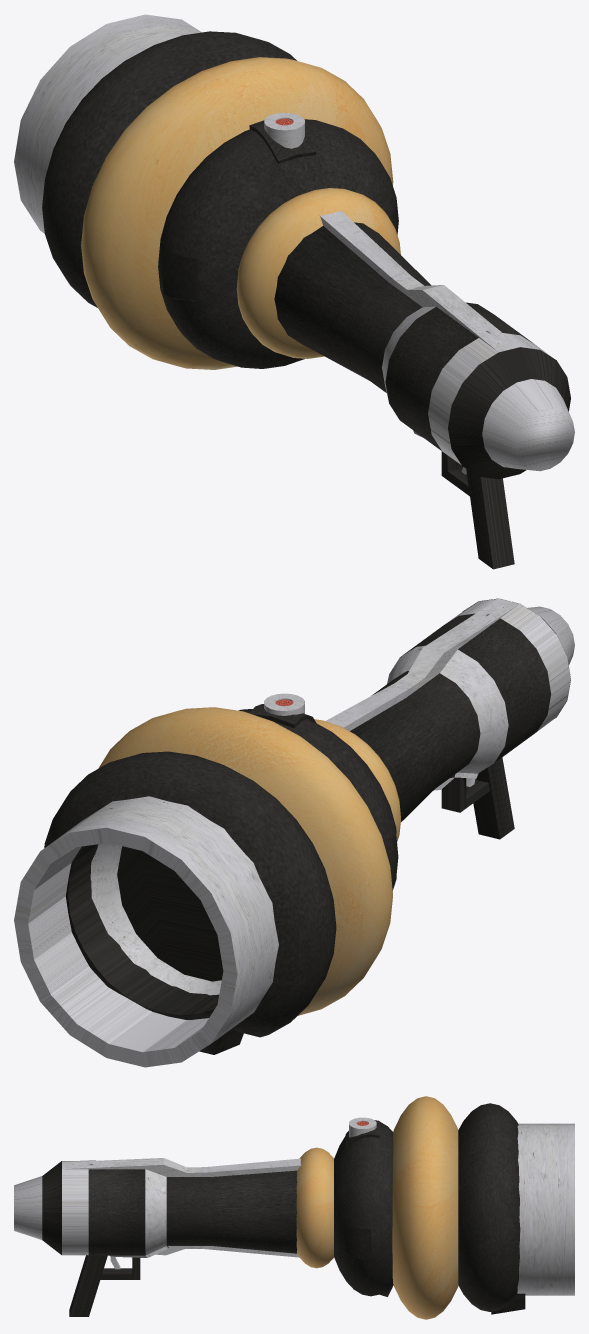
File: pollinator_f5000.fbx
3 views of the same model, one above another, from view 1: azimuth 30°, elevation 25°; view 2: azimuth 150°, elevation 25°; view 3: azimuth 270°, elevation 25° (orthographic). The views are drawn at different scales.
Visible parts, largest first — view 1: Pollinator_f5000; view 2: Pollinator_f5000; view 3: Pollinator_f5000.
Part boxes in pixels (x1=…): Pollinator_f5000: x1=14, y1=14, x2=574, y2=569; Pollinator_f5000: x1=14, y1=598, x2=574, y2=1067; Pollinator_f5000: x1=14, y1=1096, x2=574, y2=1319.
Bounding box in the file's own units: 16.53 × 15.97 × 39.41.
4 materials, 4 textured.
